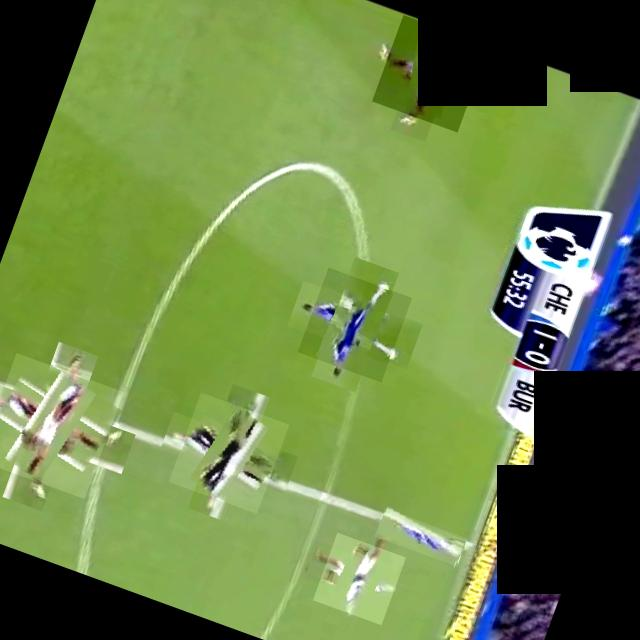referee: (168, 392, 290, 513)
soccer-player: (0, 352, 124, 498), (372, 14, 489, 132), (298, 267, 412, 382), (313, 532, 406, 624), (374, 508, 468, 566)
